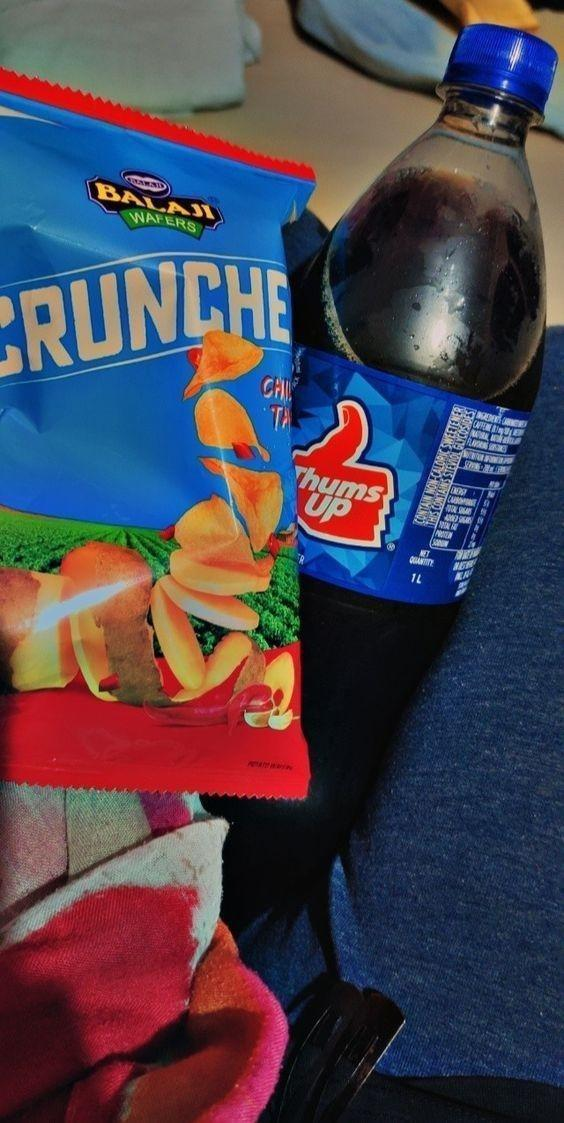bottle-plastic: (242, 21, 564, 848)
